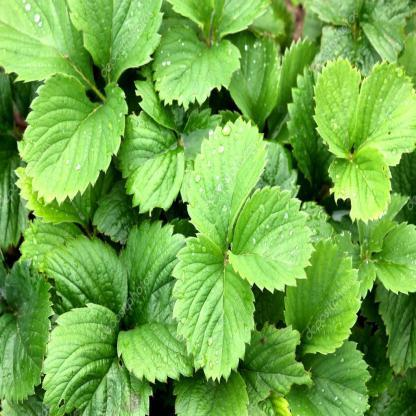Strawberry leaf: (113, 199, 216, 388), (19, 71, 130, 205), (180, 105, 269, 256), (174, 231, 258, 382), (234, 180, 317, 298), (148, 19, 245, 105), (324, 145, 400, 230), (354, 67, 416, 165), (316, 53, 364, 160)
